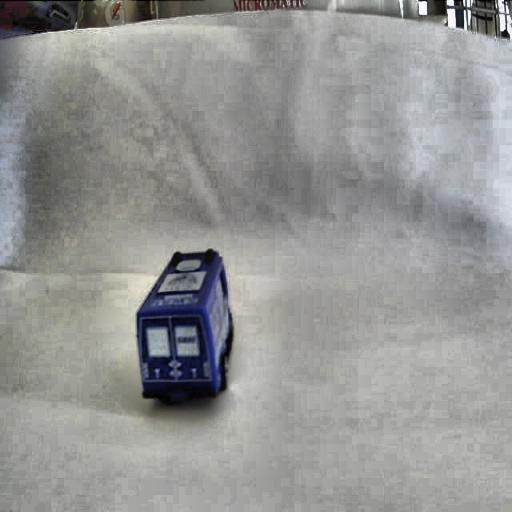police car: (131, 245, 238, 412)
